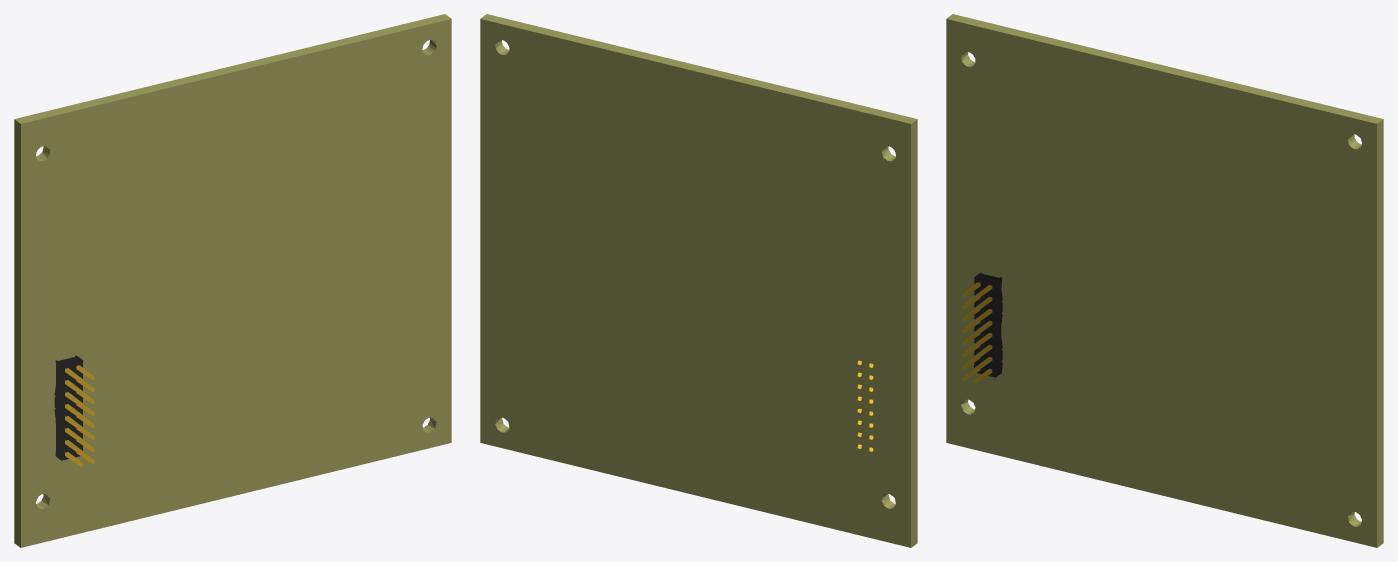
Rendered from OBJ_PCB_PC104 Breakout.obj.
3 renders of one model, left to right at view 1: azimuth 30°, elevation 25°; view 2: azimuth 150°, elevation 25°; view 3: azimuth 330°, elevation 25°, orthographic.
Bounding box in the file's own units: 376 × 354 × 45.17.
